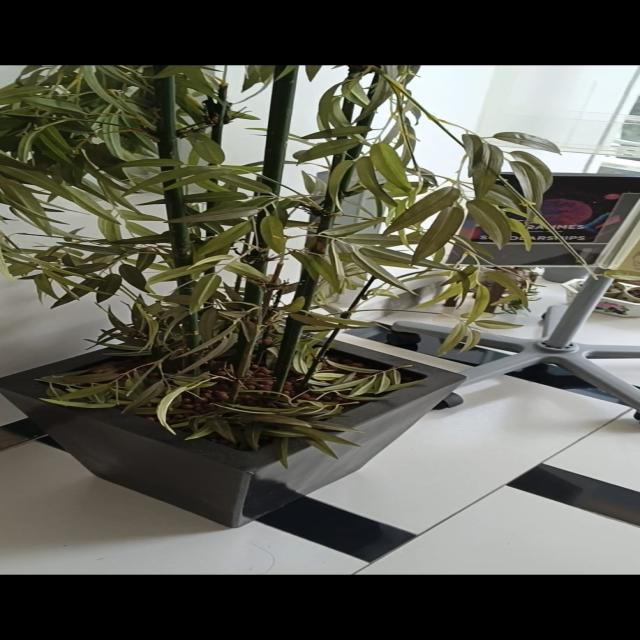Pot: (0, 311, 465, 528)
